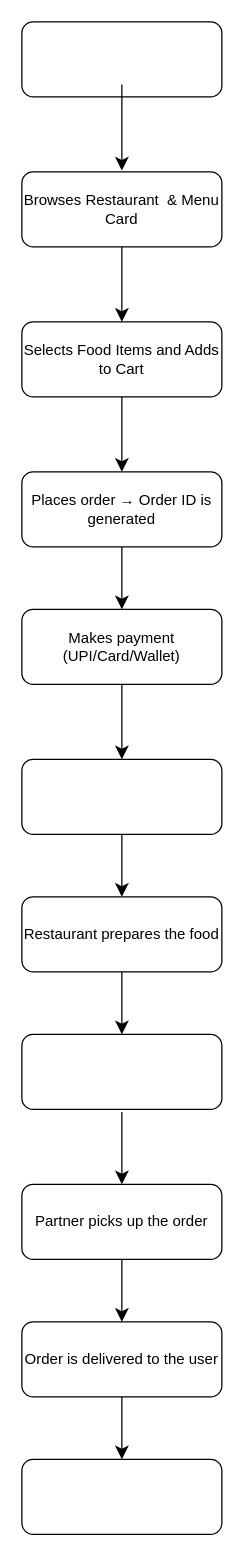
Image size: 244x1556. Some labels were removed from this diagram. The shapes that lost their labels are listed below. From the top down, each one's centre as x and y in pixels, then its label:
At [121,59]: "User Opens app".
At [121,796]: "Order sent to restaurant".
At [121,1071]: "Delivery partner is assigned".
At [121,1496]: "User gives feedback & rating".
